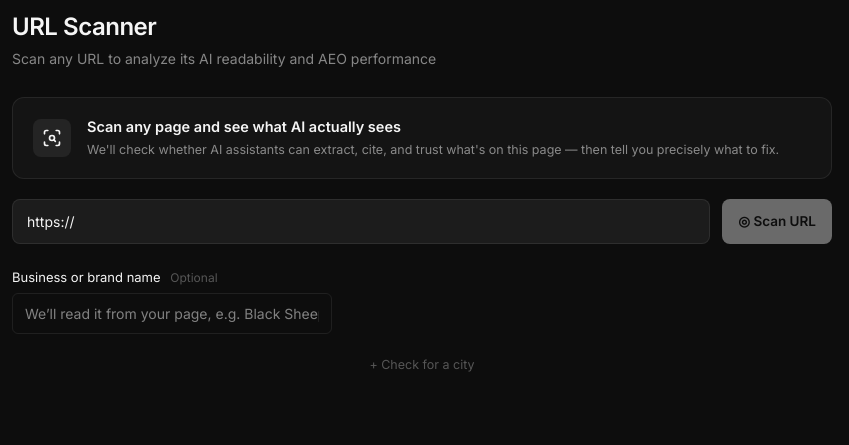
Scenario: running a URL check › shows the error message when the check fails
The image size is (849, 445).
Replace the text in the field with placeholder "https://yourstore.com/product" with "acme.com" at (361, 221), box [12, 198, 710, 244]
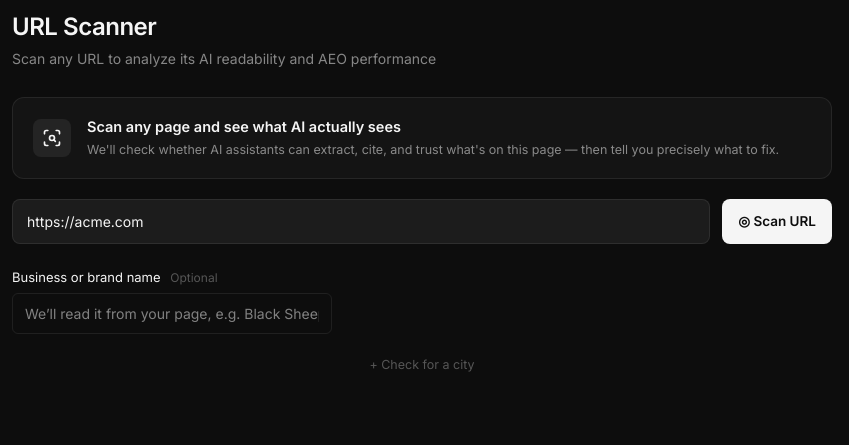
Click the button "◎ Scan URL" at (777, 221), box [722, 198, 832, 244]
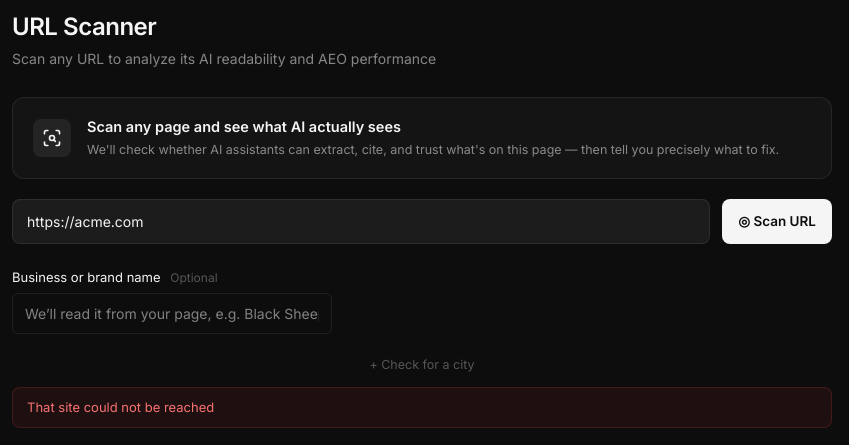
Expected: the button "◎ Scan URL" is enabled, [722, 198, 832, 244]
Expected: the text "That site could not be reached" is shown, [12, 387, 832, 428]
